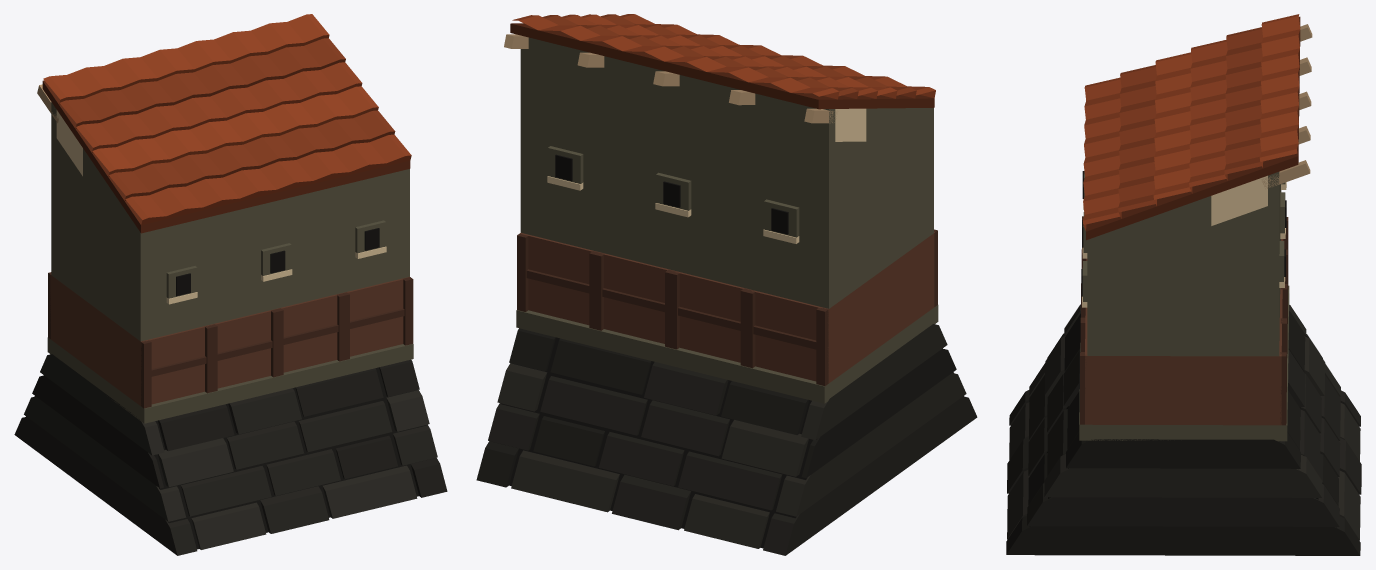
Rendered from VerWall02.glb.
3 renders of one model, left to right at view 1: azimuth 30°, elevation 25°; view 2: azimuth 150°, elevation 25°; view 3: azimuth 270°, elevation 25°, orthographic. The views are drawn at different scales.
Parts seen in each view (by area): view 1: VerWall02_mortar; view 2: VerWall02_mortar; view 3: VerWall02_mortar.
Part boxes in pixels (x1,y1,x2,y2): VerWall02_mortar: [14, 14, 447, 555]; VerWall02_mortar: [476, 14, 977, 555]; VerWall02_mortar: [1006, 14, 1361, 555].
Bounding box in the file's own units: 4.16 × 5.57 × 4.45.
